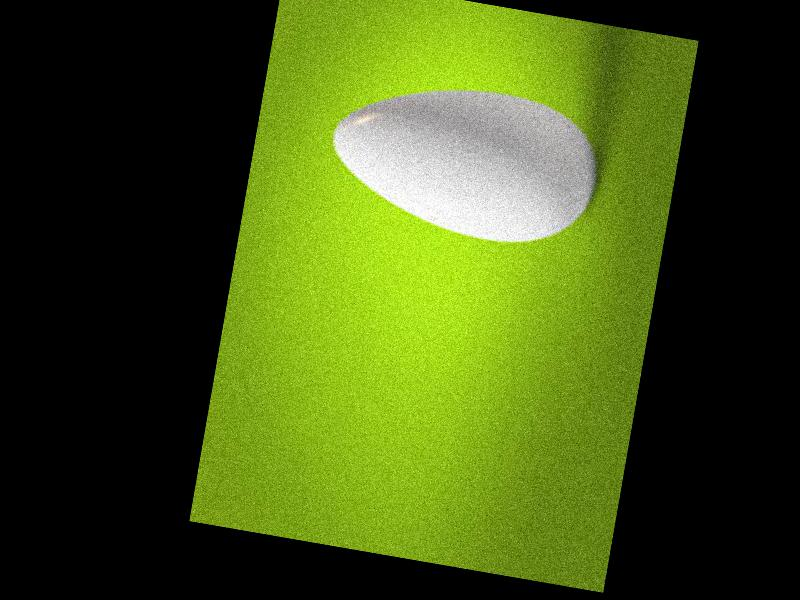Eggs: (317, 66, 605, 255)
